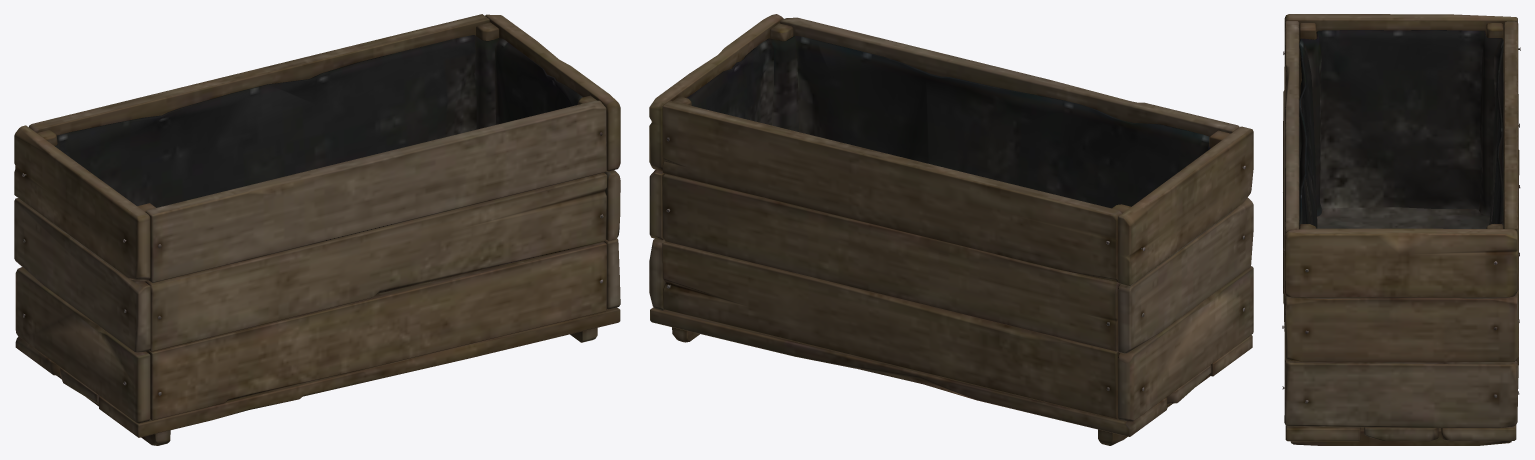
The model's file is planter_box_01.glb.
3 renders of one model, left to right at view 1: azimuth 30°, elevation 25°; view 2: azimuth 150°, elevation 25°; view 3: azimuth 270°, elevation 25°, orthographic. The views are drawn at different scales.
Parts seen in each view (by area): view 1: planter_box_01; view 2: planter_box_01; view 3: planter_box_01.
Boxes of the visible parts, x1,y1,x2,y2 form: planter_box_01: (14, 14, 620, 445); planter_box_01: (649, 14, 1253, 445); planter_box_01: (1282, 14, 1520, 445).
Bounding box in the file's own units: 0.9126 × 0.4249 × 0.4137.
Materials: 1 (1 with a texture image).
